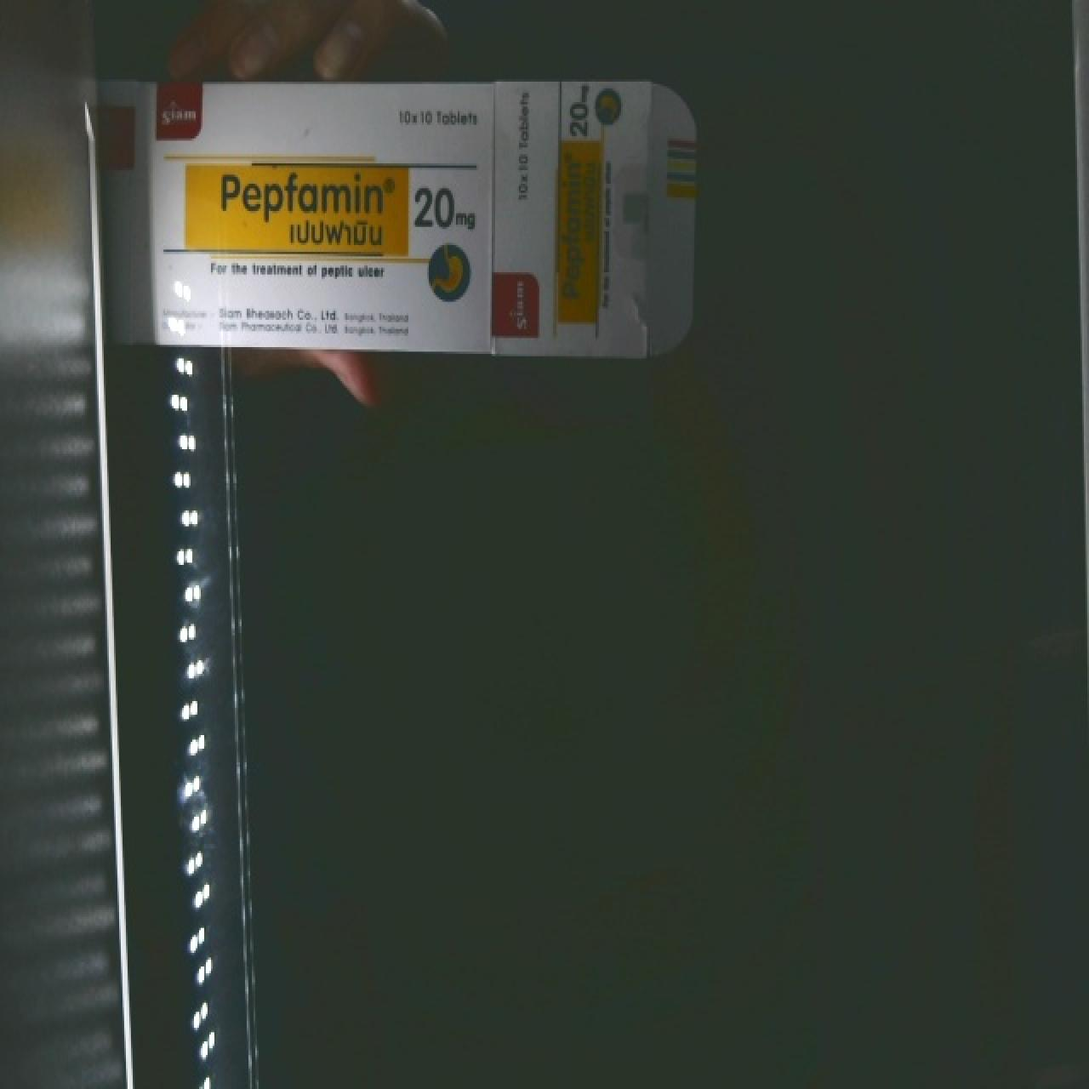medicine_label_obb: (202, 157, 406, 251)
